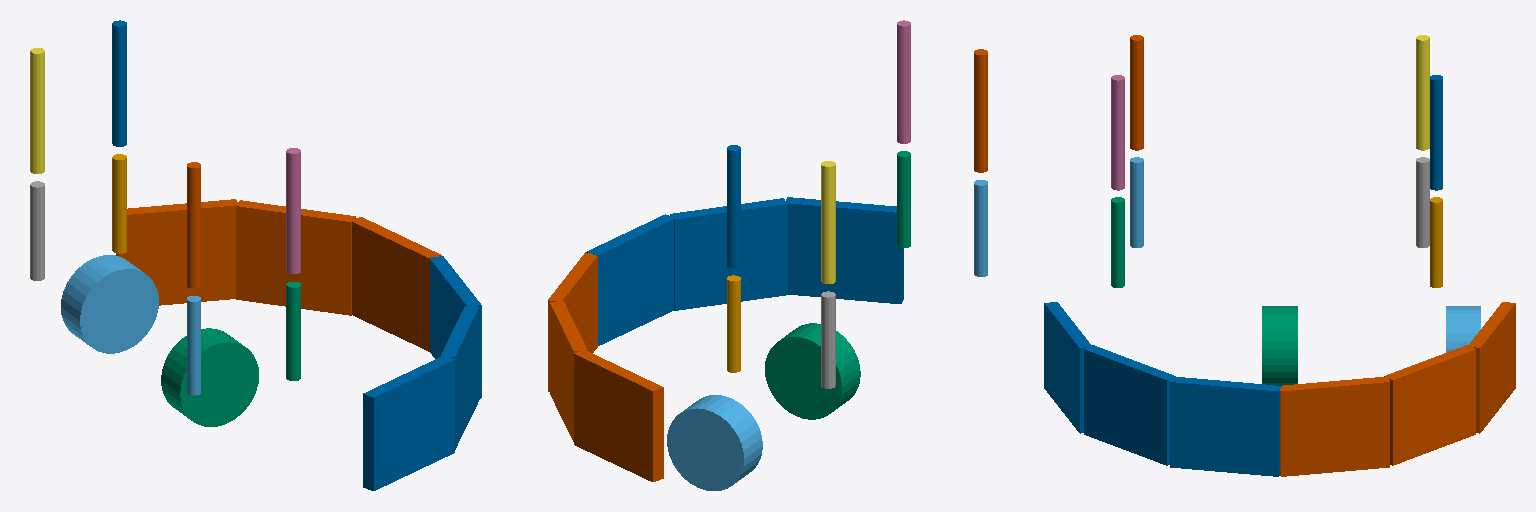
The robot description file, URDF, robot "[local-path]/Webots-ROS2-TurCobot/src/my_create/resource/MyCreat":
<?xml version="1.0"?>
<robot name="[local-path]/Webots-ROS2-TurCobot/src/my_create/resource/MyCreate.urdf" xmlns:xacro="http://ros.org/wiki/xacro">
  <webots>
    <plugin type="my_create.my_robot_driver.MyRobotDriver"/>
  </webots>
  <link name="base_link">
  </link>
  <link name="camera_left">
  </link>
  <joint name="base_link_camera_left_joint" type="fixed">
    <parent link="base_link"/>
    <child link="camera_left"/>
    <origin xyz="0.14 0.05 0.11" rpy="-1.570796 0 -1.570796"/>
  </joint>
  <link name="camera_right">
  </link>
  <joint name="base_link_camera_right_joint" type="fixed">
    <parent link="base_link"/>
    <child link="camera_right"/>
    <origin xyz="0.14 -0.05 0.11" rpy="-1.570796 0.000005 -1.570796"/>
  </joint>
  <link name="stand_left_back_2">
    <visual>
      <geometry>
        <cylinder radius="0.005" length="0.09"/>
      </geometry>
    </visual>
    <collision>
      <geometry>
        <cylinder radius="0.005" length="0.09"/>
      </geometry>
    </collision>
  </link>
  <joint name="base_link_stand_left_back_2_joint" type="fixed">
    <parent link="base_link"/>
    <child link="stand_left_back_2"/>
    <origin xyz="-0.08 0.106 0.16" rpy="0 0 0"/>
  </joint>
  <link name="stand_left_front_2">
    <visual>
      <geometry>
        <cylinder radius="0.005" length="0.09"/>
      </geometry>
    </visual>
    <collision>
      <geometry>
        <cylinder radius="0.005" length="0.09"/>
      </geometry>
    </collision>
  </link>
  <joint name="base_link_stand_left_front_2_joint" type="fixed">
    <parent link="base_link"/>
    <child link="stand_left_front_2"/>
    <origin xyz="-0.01 0.116 0.16" rpy="0 0 0"/>
  </joint>
  <link name="stand_right_back_2">
    <visual>
      <geometry>
        <cylinder radius="0.005" length="0.09"/>
      </geometry>
    </visual>
    <collision>
      <geometry>
        <cylinder radius="0.005" length="0.09"/>
      </geometry>
    </collision>
  </link>
  <joint name="base_link_stand_right_back_2_joint" type="fixed">
    <parent link="base_link"/>
    <child link="stand_right_back_2"/>
    <origin xyz="-0.08 -0.106 0.16" rpy="0 0 0"/>
  </joint>
  <link name="stand_right_front_2">
    <visual>
      <geometry>
        <cylinder radius="0.005" length="0.09"/>
      </geometry>
    </visual>
    <collision>
      <geometry>
        <cylinder radius="0.005" length="0.09"/>
      </geometry>
    </collision>
  </link>
  <joint name="base_link_stand_right_front_2_joint" type="fixed">
    <parent link="base_link"/>
    <child link="stand_right_front_2"/>
    <origin xyz="-0.01 -0.12 0.16" rpy="0 0 0"/>
  </joint>
  <link name="stand_left_back_1">
    <visual>
      <geometry>
        <cylinder radius="0.005" length="0.07"/>
      </geometry>
    </visual>
    <collision>
      <geometry>
        <cylinder radius="0.005" length="0.07"/>
      </geometry>
    </collision>
  </link>
  <joint name="base_link_stand_left_back_1_joint" type="fixed">
    <parent link="base_link"/>
    <child link="stand_left_back_1"/>
    <origin xyz="-0.08 0.106 0.07" rpy="0 0 0"/>
  </joint>
  <link name="stand_left_front_1">
    <visual>
      <geometry>
        <cylinder radius="0.005" length="0.07"/>
      </geometry>
    </visual>
    <collision>
      <geometry>
        <cylinder radius="0.005" length="0.07"/>
      </geometry>
    </collision>
  </link>
  <joint name="base_link_stand_left_front_1_joint" type="fixed">
    <parent link="base_link"/>
    <child link="stand_left_front_1"/>
    <origin xyz="-0.01 0.116 0.07" rpy="0 0 0"/>
  </joint>
  <link name="stand_right_back_1">
    <visual>
      <geometry>
        <cylinder radius="0.005" length="0.07"/>
      </geometry>
    </visual>
    <collision>
      <geometry>
        <cylinder radius="0.005" length="0.07"/>
      </geometry>
    </collision>
  </link>
  <joint name="base_link_stand_right_back_1_joint" type="fixed">
    <parent link="base_link"/>
    <child link="stand_right_back_1"/>
    <origin xyz="-0.08 -0.106 0.07" rpy="0 0 0"/>
  </joint>
  <link name="stand_right_front_1">
    <visual>
      <geometry>
        <cylinder radius="0.005" length="0.07"/>
      </geometry>
    </visual>
    <collision>
      <geometry>
        <cylinder radius="0.005" length="0.07"/>
      </geometry>
    </collision>
  </link>
  <joint name="base_link_stand_right_front_1_joint" type="fixed">
    <parent link="base_link"/>
    <child link="stand_right_front_1"/>
    <origin xyz="-0.01 -0.12 0.07" rpy="0 0 0"/>
  </joint>
  <link name="plate_2">
  </link>
  <joint name="base_link_plate_2_joint" type="fixed">
    <parent link="base_link"/>
    <child link="plate_2"/>
    <origin xyz="0 0 0.205" rpy="0 0 0"/>
  </joint>
  <link name="plate_1">
  </link>
  <joint name="base_link_plate_1_joint" type="fixed">
    <parent link="base_link"/>
    <child link="plate_1"/>
    <origin xyz="0 0 0.11" rpy="0 0 0"/>
  </joint>
  <link name="cliff_left">
  </link>
  <joint name="base_link_cliff_left_joint" type="fixed">
    <parent link="base_link"/>
    <child link="cliff_left"/>
    <origin xyz="0.07 0.15 0" rpy="-1.876967 1.570787 1.264616"/>
  </joint>
  <link name="cliff_front_left">
  </link>
  <joint name="base_link_cliff_front_left_joint" type="fixed">
    <parent link="base_link"/>
    <child link="cliff_front_left"/>
    <origin xyz="0.15 0.04 0" rpy="-1.876967 1.570787 1.264616"/>
  </joint>
  <link name="cliff_front_right">
  </link>
  <joint name="base_link_cliff_front_right_joint" type="fixed">
    <parent link="base_link"/>
    <child link="cliff_front_right"/>
    <origin xyz="0.15 -0.04 0" rpy="-1.876967 1.570787 1.264616"/>
  </joint>
  <link name="cliff_right">
  </link>
  <joint name="base_link_cliff_right_joint" type="fixed">
    <parent link="base_link"/>
    <child link="cliff_right"/>
    <origin xyz="0.07 -0.15 0" rpy="-1.876967 1.570787 1.264616"/>
  </joint>
  <link name="led_step">
  </link>
  <joint name="base_link_led_step_joint" type="fixed">
    <parent link="base_link"/>
    <child link="led_step"/>
    <origin xyz="0.0189 -0.0581 0.0349" rpy="0 0 0"/>
  </joint>
  <link name="led_play">
  </link>
  <joint name="base_link_led_play_joint" type="fixed">
    <parent link="base_link"/>
    <child link="led_play"/>
    <origin xyz="0.0193 -0.0132 0.0349" rpy="0 0 0"/>
  </joint>
  <link name="led_on">
  </link>
  <joint name="base_link_led_on_joint" type="fixed">
    <parent link="base_link"/>
    <child link="led_on"/>
    <origin xyz="0.0202 0.0617 0.0349" rpy="0 0 0"/>
  </joint>
  <link name="bumper_right">
    <visual>
      <origin xyz="-0.078042 0 -0.148208" rpy="0 0.523599 0"/>
      <geometry>
        <box size="0.082811 0.07 0.01"/>
      </geometry>
    </visual>
    <collision>
      <origin xyz="-0.078042 0 -0.148208" rpy="0 0.523599 0"/>
      <geometry>
        <box size="0.082811 0.07 0.01"/>
      </geometry>
    </collision>
    <visual>
      <origin xyz="0 0 -0.1675" rpy="0 0 0"/>
      <geometry>
        <box size="0.082811 0.07 0.01"/>
      </geometry>
    </visual>
    <collision>
      <origin xyz="0 0 -0.1675" rpy="0 0 0"/>
      <geometry>
        <box size="0.082811 0.07 0.01"/>
      </geometry>
    </collision>
    <visual>
      <origin xyz="0.078042 0 -0.148208" rpy="0 -0.523599 0"/>
      <geometry>
        <box size="0.082811 0.07 0.01"/>
      </geometry>
    </visual>
    <collision>
      <origin xyz="0.078042 0 -0.148208" rpy="0 -0.523599 0"/>
      <geometry>
        <box size="0.082811 0.07 0.01"/>
      </geometry>
    </collision>
  </link>
  <joint name="base_link_bumper_right_joint" type="fixed">
    <parent link="base_link"/>
    <child link="bumper_right"/>
    <origin xyz="0 0 0" rpy="1.570792 0.000011 -2.297729"/>
  </joint>
  <link name="bumper_left">
    <visual>
      <origin xyz="-0.078042 0 -0.148208" rpy="0 0.523599 0"/>
      <geometry>
        <box size="0.082811 0.07 0.01"/>
      </geometry>
    </visual>
    <collision>
      <origin xyz="-0.078042 0 -0.148208" rpy="0 0.523599 0"/>
      <geometry>
        <box size="0.082811 0.07 0.01"/>
      </geometry>
    </collision>
    <visual>
      <origin xyz="0 0 -0.1675" rpy="0 0 0"/>
      <geometry>
        <box size="0.082811 0.07 0.01"/>
      </geometry>
    </visual>
    <collision>
      <origin xyz="0 0 -0.1675" rpy="0 0 0"/>
      <geometry>
        <box size="0.082811 0.07 0.01"/>
      </geometry>
    </collision>
    <visual>
      <origin xyz="0.078042 0 -0.148208" rpy="0 -0.523599 0"/>
      <geometry>
        <box size="0.082811 0.07 0.01"/>
      </geometry>
    </visual>
    <collision>
      <origin xyz="0.078042 0 -0.148208" rpy="0 -0.523599 0"/>
      <geometry>
        <box size="0.082811 0.07 0.01"/>
      </geometry>
    </collision>
  </link>
  <joint name="base_link_bumper_left_joint" type="fixed">
    <parent link="base_link"/>
    <child link="bumper_left"/>
    <origin xyz="0 0 0" rpy="1.570806 0.000006 -0.843867"/>
  </joint>
  <link name="receiver">
  </link>
  <joint name="base_link_receiver_joint" type="fixed">
    <parent link="base_link"/>
    <child link="receiver"/>
    <origin xyz="0.152 0 0.037" rpy="0 0 0"/>
  </joint>
  <link name="front wheel">
  </link>
  <joint name="base_link_front wheel_joint" type="fixed">
    <parent link="base_link"/>
    <child link="front wheel"/>
    <origin xyz="0.129 0 -0.035" rpy="0 0 0"/>
  </joint>
  <link name="rear wheel">
  </link>
  <joint name="base_link_rear wheel_joint" type="fixed">
    <parent link="base_link"/>
    <child link="rear wheel"/>
    <origin xyz="-0.1315 0 -0.0305" rpy="0 0 0"/>
  </joint>
  <joint name="left wheel motor" type="continuous">
    <parent link="base_link"/>
    <child link="left wheel"/>
    <axis xyz="0 1 0"/>
    <limit effort="10" velocity="16.129"/>
    <origin xyz="-0.0062 0 -0.014" rpy="0 0 0"/>
  </joint>
  <link name="left wheel">
    <visual>
      <origin xyz="0 0.1359 0" rpy="1.5708 0 0"/>
      <geometry>
        <cylinder radius="0.031" length="0.026"/>
      </geometry>
    </visual>
    <collision>
      <origin xyz="0 0.1359 0" rpy="1.5708 0 0"/>
      <geometry>
        <cylinder radius="0.031" length="0.026"/>
      </geometry>
    </collision>
  </link>
  <joint name="right wheel motor" type="continuous">
    <parent link="base_link"/>
    <child link="right wheel"/>
    <axis xyz="0 1 0"/>
    <limit effort="10" velocity="16.129"/>
    <origin xyz="-0.0062 0.1359 -0.014" rpy="0 0 0"/>
  </joint>
  <link name="right wheel">
    <visual>
      <origin xyz="0 -0.1359 0" rpy="1.5708 0 0"/>
      <geometry>
        <cylinder radius="0.031" length="0.026"/>
      </geometry>
    </visual>
    <collision>
      <origin xyz="0 -0.1359 0" rpy="1.5708 0 0"/>
      <geometry>
        <cylinder radius="0.031" length="0.026"/>
      </geometry>
    </collision>
  </link>
</robot>

--- What the picture shows (computed from the rendered views, not written in the file) ---
The picture shows the robot from 3 angles, left to right: view 1: azimuth 30°, elevation 25°; view 2: azimuth 150°, elevation 25°; view 3: azimuth 270°, elevation 25°; orthographic projection.
Model [local-path]/Webots-ROS2-TurCobot/src/my_create/resource/MyCreat with 27 links and 26 joints (2 continuous, 24 fixed), rooted at base_link, posed all joints at 0.
Visible links, largest first — view 1: bumper_left, bumper_right, left wheel, right wheel, stand_left_front_2, stand_left_back_2, stand_right_front_2, stand_right_back_2, stand_left_back_1, stand_left_front_1, stand_right_front_1, stand_right_back_1; view 2: bumper_right, bumper_left, left wheel, right wheel, stand_left_back_2, stand_right_back_2, stand_right_front_2, stand_left_front_2, stand_left_back_1, stand_left_front_1, stand_right_back_1, stand_right_front_1; view 3: bumper_right, bumper_left, right wheel, stand_left_back_2, stand_right_back_2, stand_right_front_2, stand_left_front_2, left wheel, stand_right_front_1, stand_left_back_1, stand_right_back_1, stand_left_front_1.
Link boxes in pixels (x1,y1,x2,y2): bumper_left: (116,199,441,351); bumper_right: (363,256,481,490); left wheel: (61,255,158,353); right wheel: (161,328,258,426); stand_left_front_2: (112,20,126,146); stand_left_back_2: (30,48,44,173); stand_right_front_2: (286,148,300,273); stand_right_back_2: (187,162,200,288); stand_left_back_1: (30,181,44,280); stand_left_front_1: (112,154,126,253); stand_right_front_1: (286,282,300,380); stand_right_back_1: (187,296,200,395); bumper_right: (586,197,903,345); bumper_left: (548,252,663,481); left wheel: (667,395,762,490); right wheel: (765,323,860,419); stand_left_back_2: (821,161,835,283); stand_right_back_2: (974,49,987,172); stand_right_front_2: (897,20,910,143); stand_left_front_2: (727,145,740,267); stand_left_back_1: (821,291,835,388); stand_left_front_1: (727,275,740,372); stand_right_back_1: (974,180,987,276); stand_right_front_1: (897,151,910,247); bumper_right: (1044,302,1281,476); bumper_left: (1280,302,1515,476); right wheel: (1262,306,1297,385); stand_left_back_2: (1416,35,1429,150); stand_right_back_2: (1130,35,1143,150); stand_right_front_2: (1111,75,1124,190); stand_left_front_2: (1430,75,1442,190); left wheel: (1446,306,1480,352); stand_right_front_1: (1111,197,1124,287); stand_left_back_1: (1416,157,1429,247); stand_right_back_1: (1130,157,1143,247); stand_left_front_1: (1430,197,1442,287).
Bounding box of the posed robot: 0.2609 × 0.3492 × 0.25 m (x, y, z).
Geometry: primitives only (box / cylinder / sphere), no mesh files.
